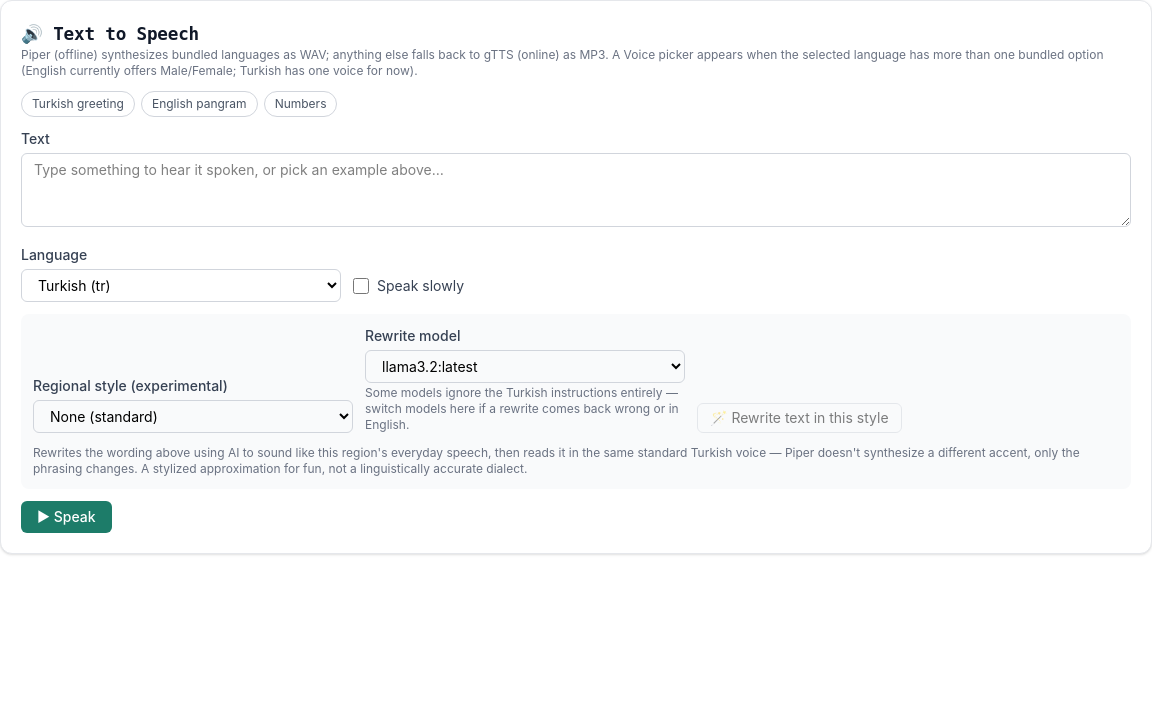
TextToSpeechCard rewrite › rewrites the text and shows Undo, using the correct model/messages
This screenshot has width=1152, height=720.
Type "Merhaba, nasılsın?" into the text box labelled "Text" at (576, 190), box x1=21 y1=153 x2=1131 y2=227
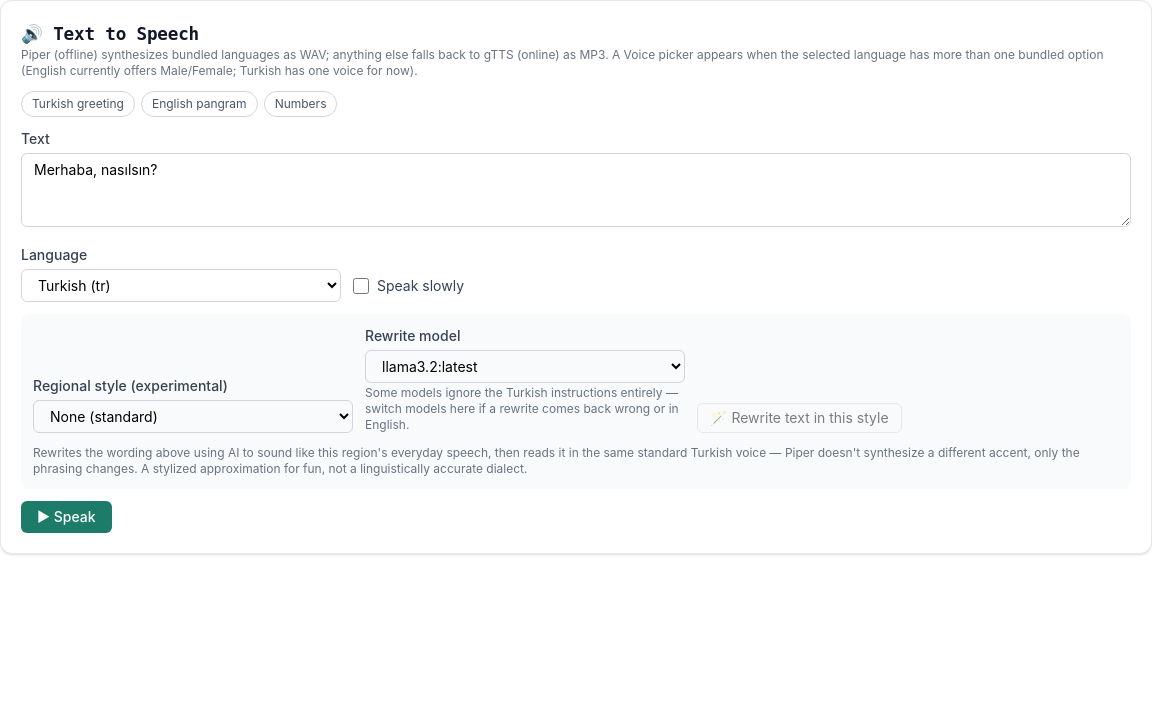
Select "Karadeniz" in the dropdown labelled "Regional style (experimental)" at (193, 417), box x1=33 y1=400 x2=353 y2=433
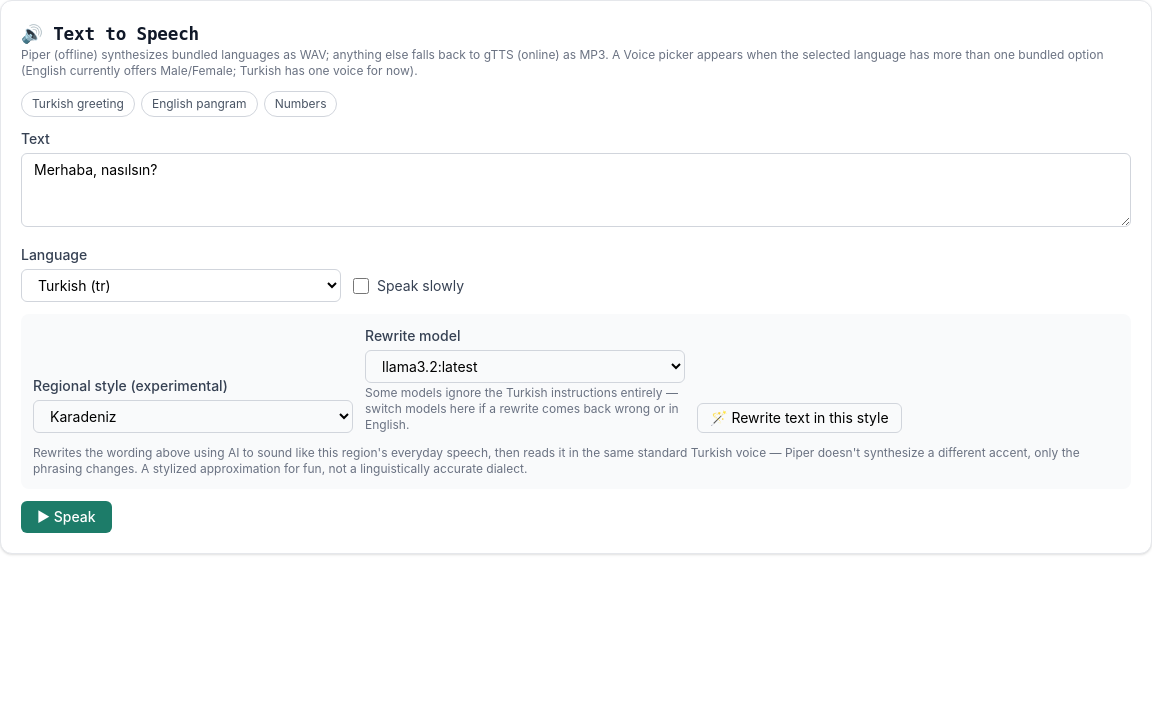
Click the button "🪄 Rewrite text in this style" at (799, 418), box x1=697 y1=403 x2=902 y2=433
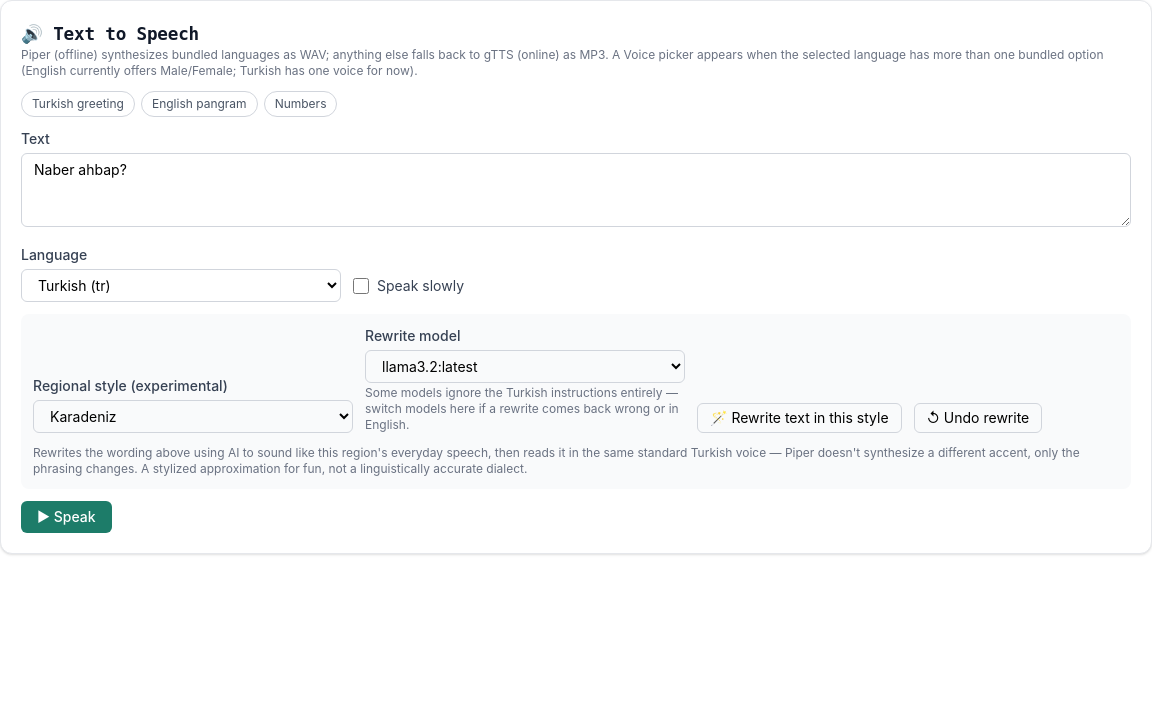
Result: the text box labelled "Text" holds "Naber ahbap?" at x1=21 y1=153 x2=1131 y2=227
Result: the button "↺ Undo rewrite" is shown at x1=914 y1=403 x2=1042 y2=433
